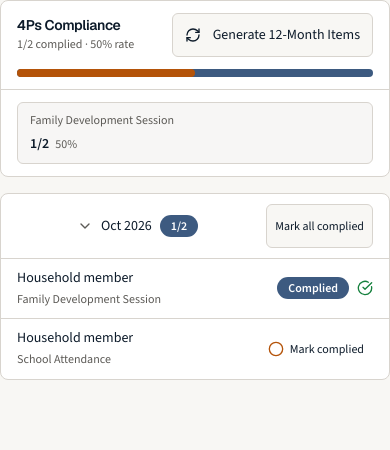
Test case: FourPsComplianceSection › surfaces mark failures
Check: the text "School Attendance" is shown, box [17, 351, 111, 367]
Click the button with aria-label "Mark as complied" at point(316, 348), box [259, 326, 373, 370]
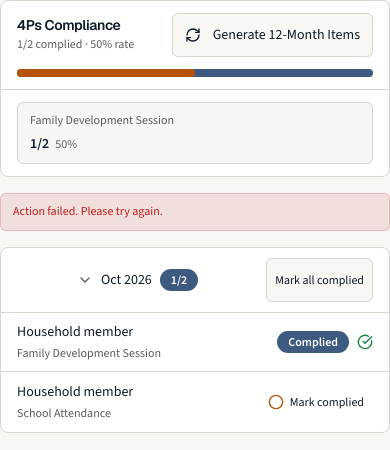
Check: the message reads "Action failed. Please try again.", box [13, 203, 163, 219]
